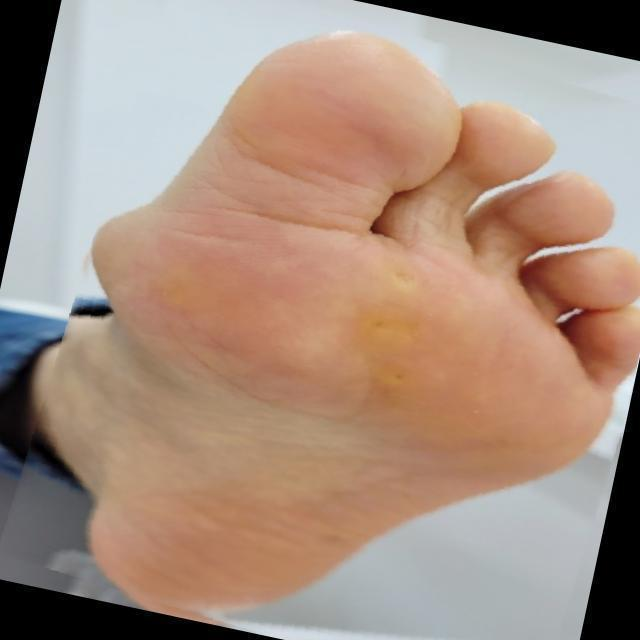No_Shoes: (111, 14, 640, 613)
